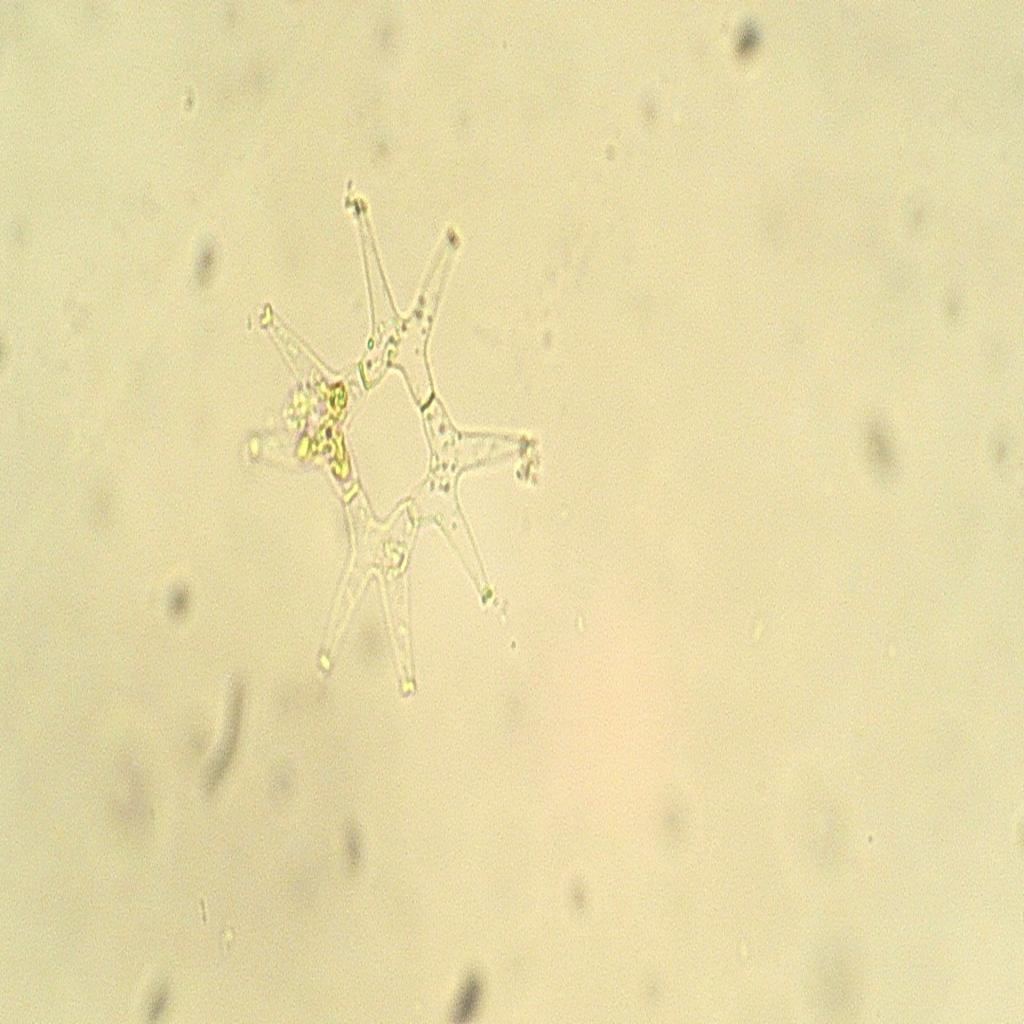Pediastrum_75TH: (230, 150, 546, 722)
